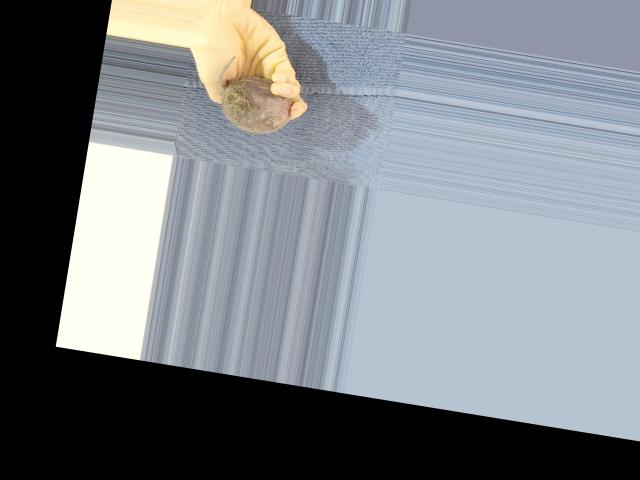beet: (210, 53, 299, 137)
